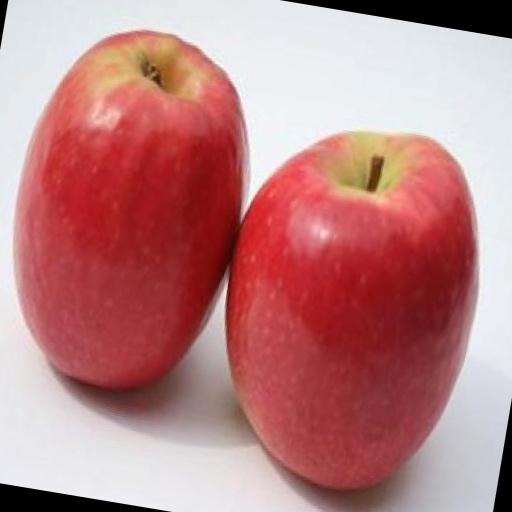fruit: (226, 132, 478, 488), (13, 31, 247, 387)
